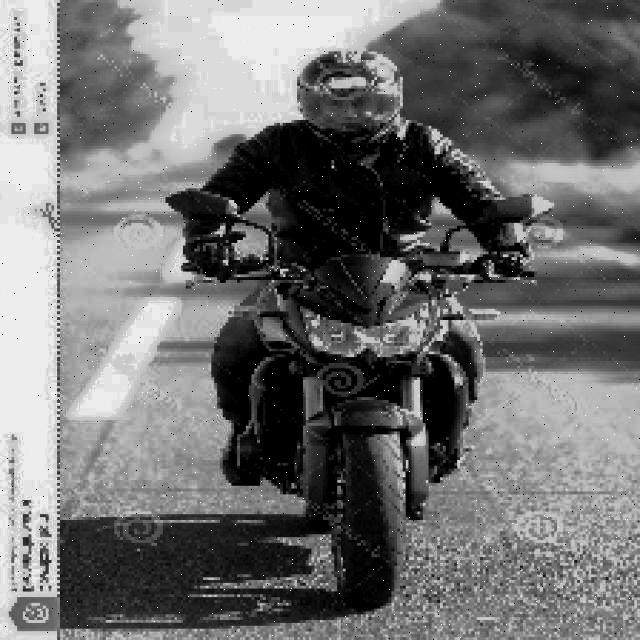Bike: (233, 230, 503, 620)
